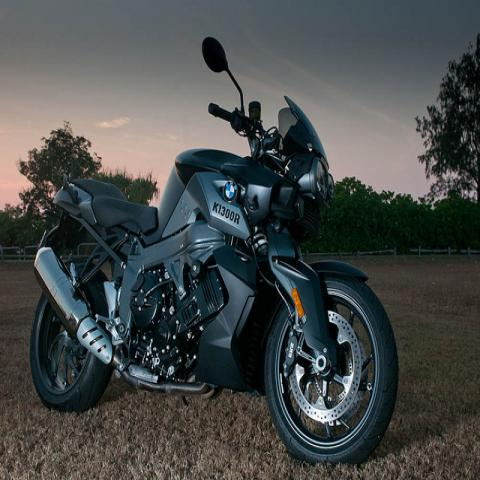motorcycle: (30, 38, 401, 468)
